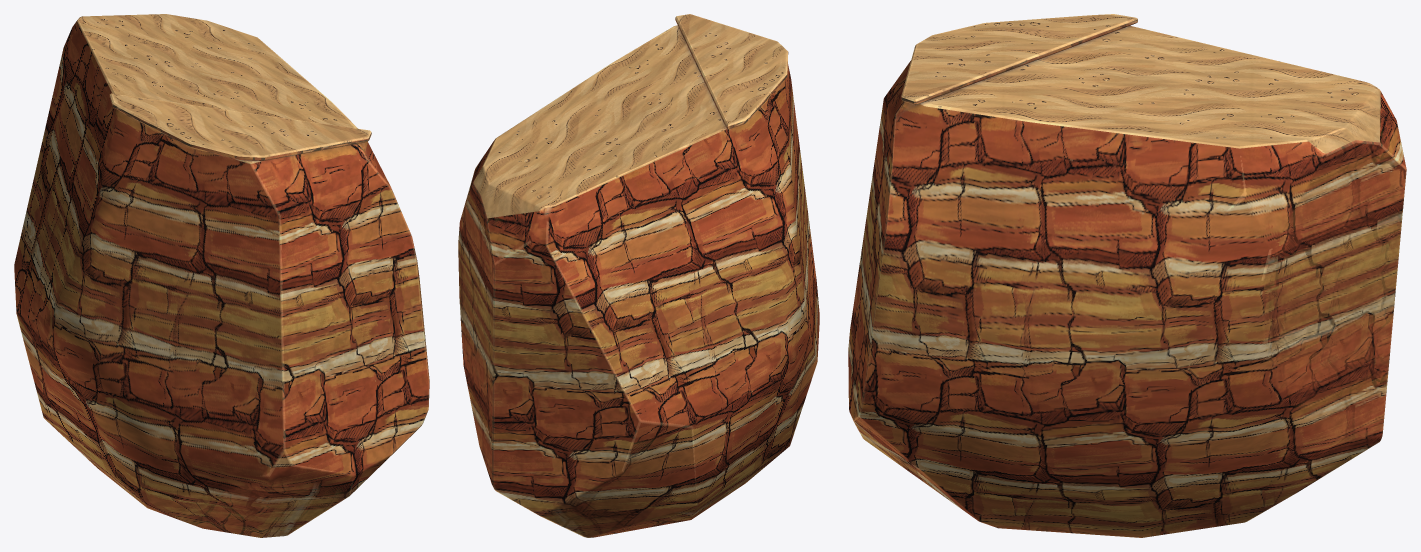
File: v4_rocher_s2w.glb
3 renders of one model, left to right at view 1: azimuth 30°, elevation 25°; view 2: azimuth 150°, elevation 25°; view 3: azimuth 270°, elevation 25°, orthographic. The views are drawn at different scales.
Parts seen in each view (by area): view 1: v4_rocher_s2w; view 2: v4_rocher_s2w; view 3: v4_rocher_s2w.
Boxes of the visible parts, box(x1,y1,x2,y2) form: v4_rocher_s2w: box(14, 14, 429, 537); v4_rocher_s2w: box(458, 14, 819, 537); v4_rocher_s2w: box(848, 14, 1406, 537).
Bounding box in the file's own units: 3 × 3.8 × 4.49.
1 material, 1 textured.
